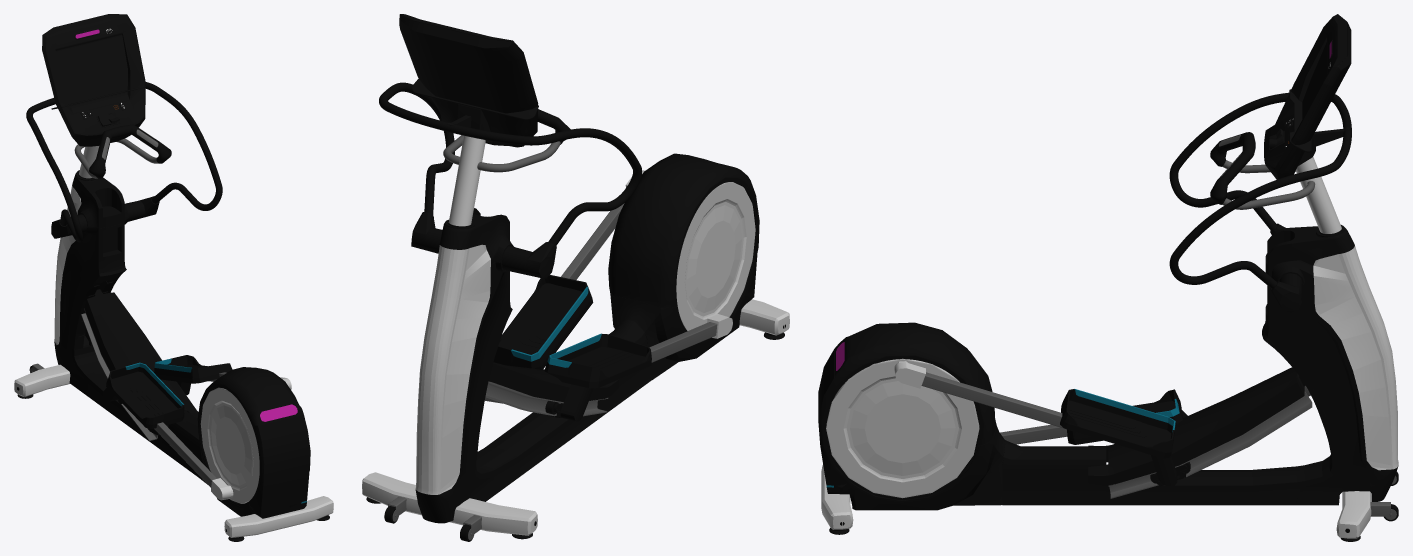
File: precor-efx.glb
3 views of the same model, side by side, from view 1: azimuth 30°, elevation 25°; view 2: azimuth 150°, elevation 25°; view 3: azimuth 270°, elevation 25° (orthographic). The views are drawn at different scales.
Visible parts, largest first — view 1: EFX_883_3Q_GMS2_003, EFX_883_3Q_GMS2_024, EFX_883_3Q_GMS2_001, EFX_883_3Q_GMS2_026, EFX_883_3Q_GMS2_023, EFX_883_3Q_GMS2_009, EFX_883_3Q_GMS2_028, EFX_883_3Q_GMS2_011, EFX_883_3Q_GMS2_025, EFX_883_3Q_GMS2_004, EFX_883_3Q_GMS2_007; view 2: EFX_883_3Q_GMS2_003, EFX_883_3Q_GMS2_001, EFX_883_3Q_GMS2_024, EFX_883_3Q_GMS2_026, EFX_883_3Q_GMS2_030, EFX_883_3Q_GMS2_028, EFX_883_3Q_GMS2_008, EFX_883_3Q_GMS2_011, EFX_883_3Q_GMS2_009, EFX_883_3Q_GMS2_025, EFX_883_3Q_GMS2_004, EFX_883_3Q_GMS2_019 (+2 smaller); view 3: EFX_883_3Q_GMS2_003, EFX_883_3Q_GMS2_001, EFX_883_3Q_GMS2_024, EFX_883_3Q_GMS2_026, EFX_883_3Q_GMS2_028, EFX_883_3Q_GMS2_008, EFX_883_3Q_GMS2_023, EFX_883_3Q_GMS2_030, EFX_883_3Q_GMS2_004, EFX_883_3Q_GMS2_025, EFX_883_3Q_GMS2_009, EFX_883_3Q_GMS2_011.
Part boxes in pixels (box(x1,y1,x2,y2)): EFX_883_3Q_GMS2_003: box(51, 170, 310, 518); EFX_883_3Q_GMS2_024: box(42, 14, 145, 146); EFX_883_3Q_GMS2_001: box(14, 185, 333, 537); EFX_883_3Q_GMS2_026: box(26, 82, 222, 242); EFX_883_3Q_GMS2_023: box(89, 124, 171, 178); EFX_883_3Q_GMS2_009: box(154, 422, 217, 487); EFX_883_3Q_GMS2_028: box(81, 308, 157, 440); EFX_883_3Q_GMS2_011: box(125, 358, 191, 406); EFX_883_3Q_GMS2_025: box(74, 138, 158, 178); EFX_883_3Q_GMS2_004: box(199, 386, 260, 506); EFX_883_3Q_GMS2_007: box(260, 404, 297, 421); EFX_883_3Q_GMS2_003: box(411, 153, 759, 523); EFX_883_3Q_GMS2_001: box(362, 170, 789, 535); EFX_883_3Q_GMS2_024: box(399, 14, 538, 147); EFX_883_3Q_GMS2_026: box(379, 82, 641, 245); EFX_883_3Q_GMS2_030: box(448, 135, 485, 226); EFX_883_3Q_GMS2_028: box(485, 381, 608, 416); EFX_883_3Q_GMS2_008: box(561, 203, 624, 279); EFX_883_3Q_GMS2_011: box(511, 286, 601, 367); EFX_883_3Q_GMS2_009: box(649, 322, 717, 362); EFX_883_3Q_GMS2_025: box(443, 135, 560, 172); EFX_883_3Q_GMS2_004: box(675, 180, 757, 331); EFX_883_3Q_GMS2_019: box(412, 78, 538, 120); EFX_883_3Q_GMS2_003: box(818, 223, 1398, 510); EFX_883_3Q_GMS2_001: box(821, 246, 1398, 538); EFX_883_3Q_GMS2_024: box(1264, 14, 1351, 179); EFX_883_3Q_GMS2_026: box(1169, 92, 1351, 288); EFX_883_3Q_GMS2_028: box(1108, 386, 1312, 498); EFX_883_3Q_GMS2_008: box(921, 372, 1064, 428); EFX_883_3Q_GMS2_023: box(1210, 132, 1255, 204); EFX_883_3Q_GMS2_030: box(1295, 156, 1341, 233); EFX_883_3Q_GMS2_004: box(824, 358, 981, 500); EFX_883_3Q_GMS2_025: box(1222, 160, 1314, 209); EFX_883_3Q_GMS2_009: box(1000, 424, 1067, 444); EFX_883_3Q_GMS2_011: box(1074, 389, 1179, 432).
Bounding box in the file's own units: 0.7667 × 1.78 × 2.02.
